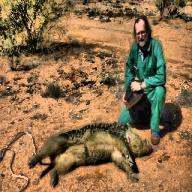boar: (27, 120, 153, 188)
